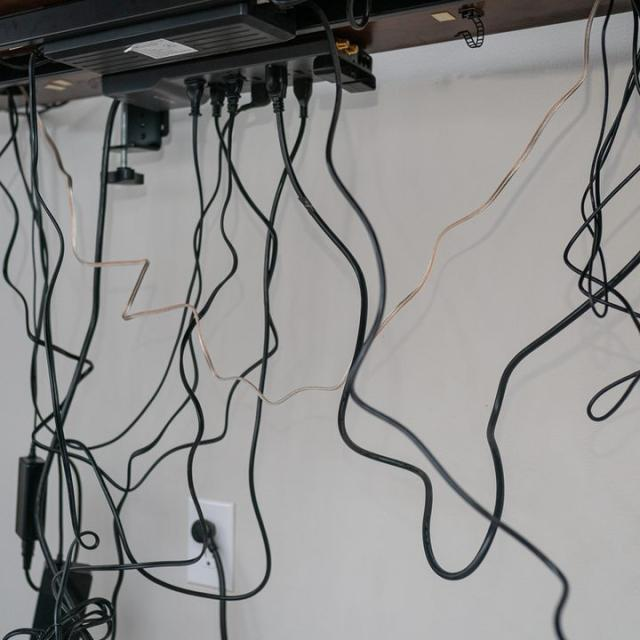electronics: (381, 9, 596, 325), (0, 0, 329, 109), (0, 0, 322, 103), (0, 0, 294, 108), (44, 2, 325, 109), (0, 0, 236, 108), (36, 36, 332, 110), (564, 36, 638, 330), (44, 2, 293, 74), (101, 36, 332, 108), (101, 36, 326, 108), (0, 0, 241, 53), (317, 0, 465, 52), (108, 102, 169, 182), (185, 500, 236, 588), (14, 453, 44, 570), (482, 0, 590, 32), (587, 365, 638, 420), (36, 62, 100, 105), (36, 59, 100, 102), (14, 454, 44, 540), (111, 105, 169, 148), (340, 48, 374, 92), (340, 50, 374, 91), (340, 49, 373, 91), (455, 4, 484, 48), (34, 565, 54, 628), (66, 564, 91, 604), (0, 70, 26, 108), (292, 77, 312, 122), (0, 68, 25, 102), (347, 0, 371, 29), (108, 164, 142, 182), (602, 0, 612, 59), (314, 55, 333, 81), (251, 84, 268, 106), (4, 88, 20, 101), (613, 0, 628, 12), (632, 0, 638, 28), (17, 54, 27, 67), (62, 633, 80, 638), (77, 606, 84, 617), (0, 93, 5, 108), (628, 253, 636, 262), (0, 94, 4, 107), (356, 2, 361, 12), (55, 562, 61, 570), (12, 45, 20, 50), (604, 59, 606, 76), (17, 94, 20, 103), (232, 15, 236, 20), (0, 99, 4, 103), (155, 106, 161, 108), (350, 85, 354, 88), (260, 8, 262, 13), (43, 66, 48, 68), (218, 24, 220, 26), (0, 82, 1, 85), (286, 26, 287, 28), (0, 89, 1, 91)
